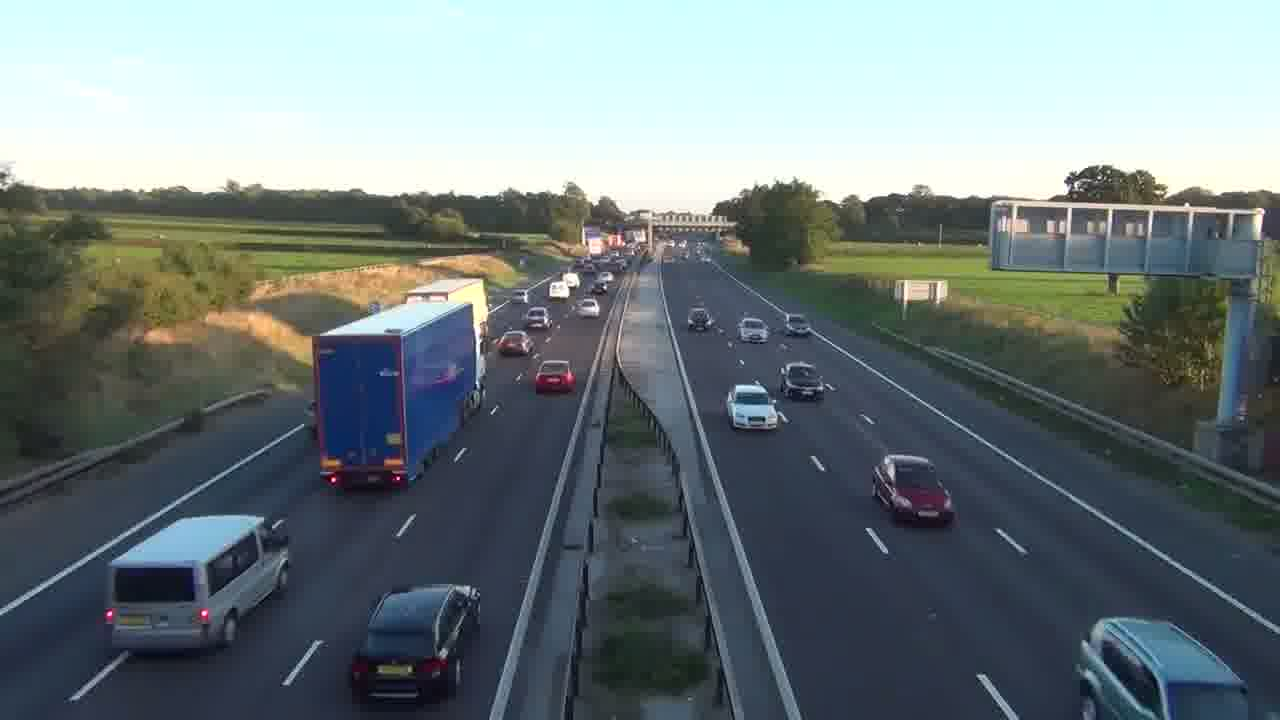car: (871, 454, 957, 527), (724, 382, 789, 431), (778, 361, 827, 402), (533, 358, 576, 395), (497, 330, 535, 357), (737, 316, 770, 343), (525, 305, 550, 327)
truck: (314, 298, 479, 493), (98, 512, 292, 654), (1076, 615, 1250, 719), (349, 583, 482, 706)
